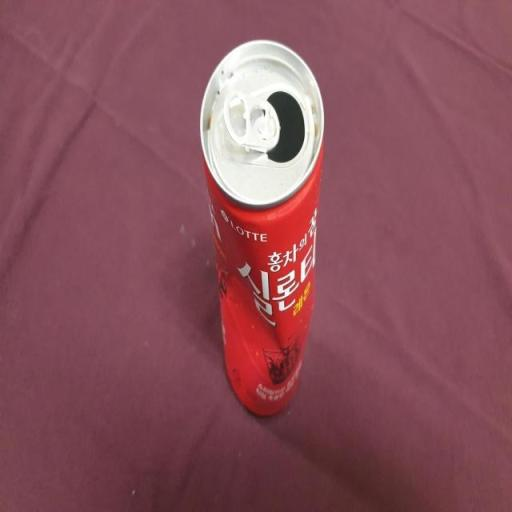metal: (193, 26, 331, 432)
